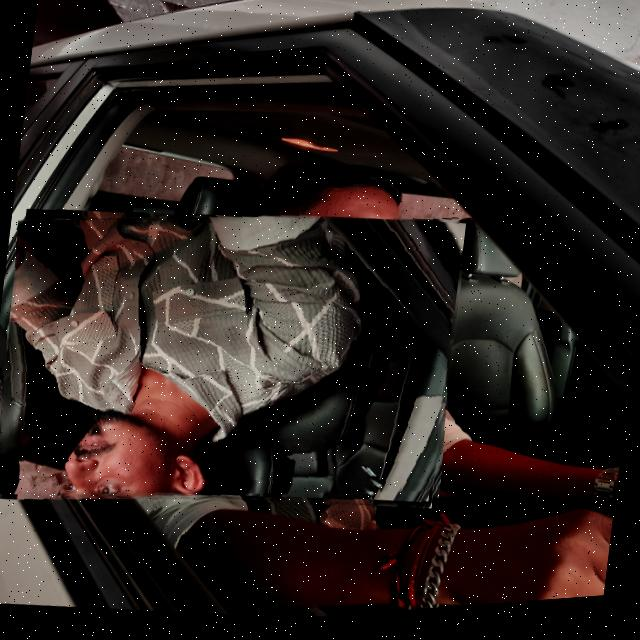no-seatbelt: (0, 174, 468, 545)
